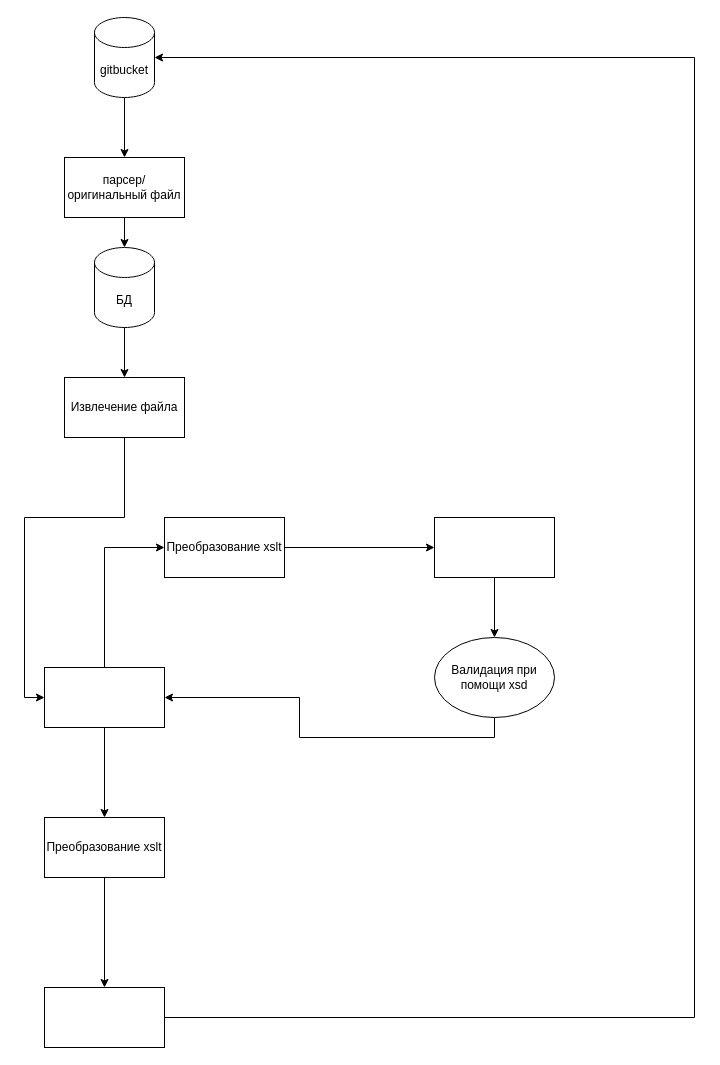
Image size: 720x1065. Some labels were removed from this diagram. The shapes that lost their labels are listed below. From the top down, each one's centre as x and y in pixels, then its label:
the point at 494,547: Отображение на станице для редактирования
the point at 104,697: xml Данные для файла
the point at 104,1017: Выходной файл
